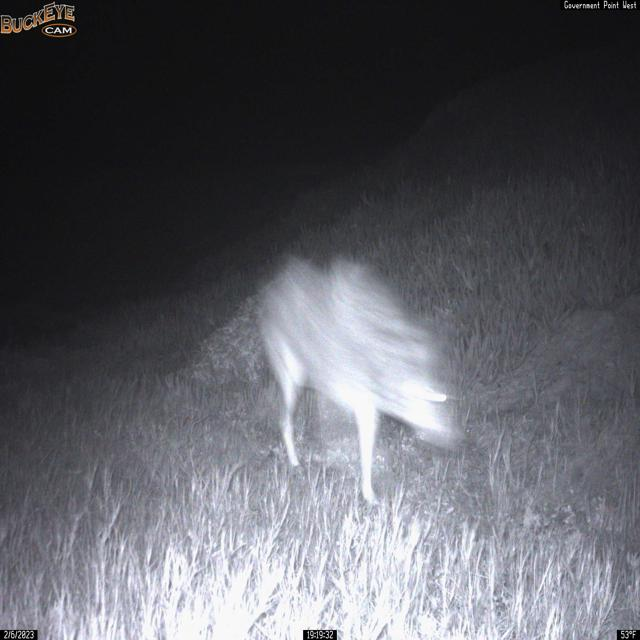coyote: (244, 240, 461, 509)
